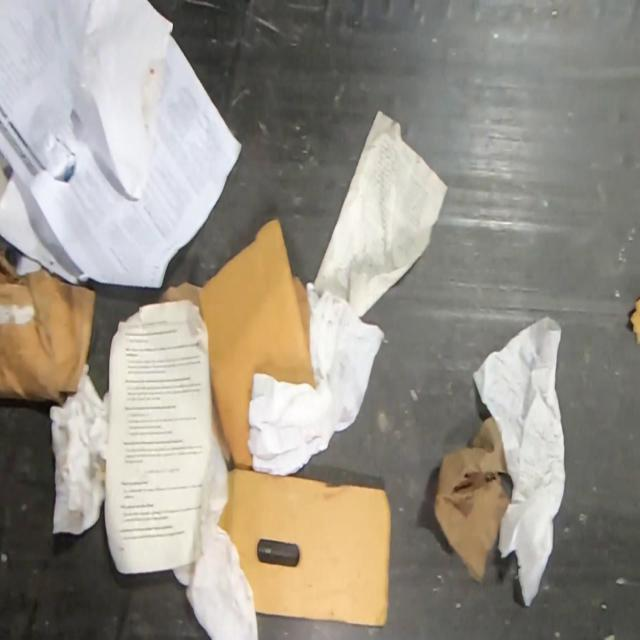cardboard: (159, 214, 316, 470), (216, 470, 392, 628), (0, 242, 97, 408)
